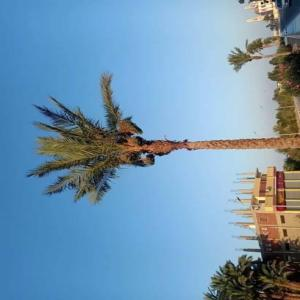palm tree: (25, 70, 300, 204)
